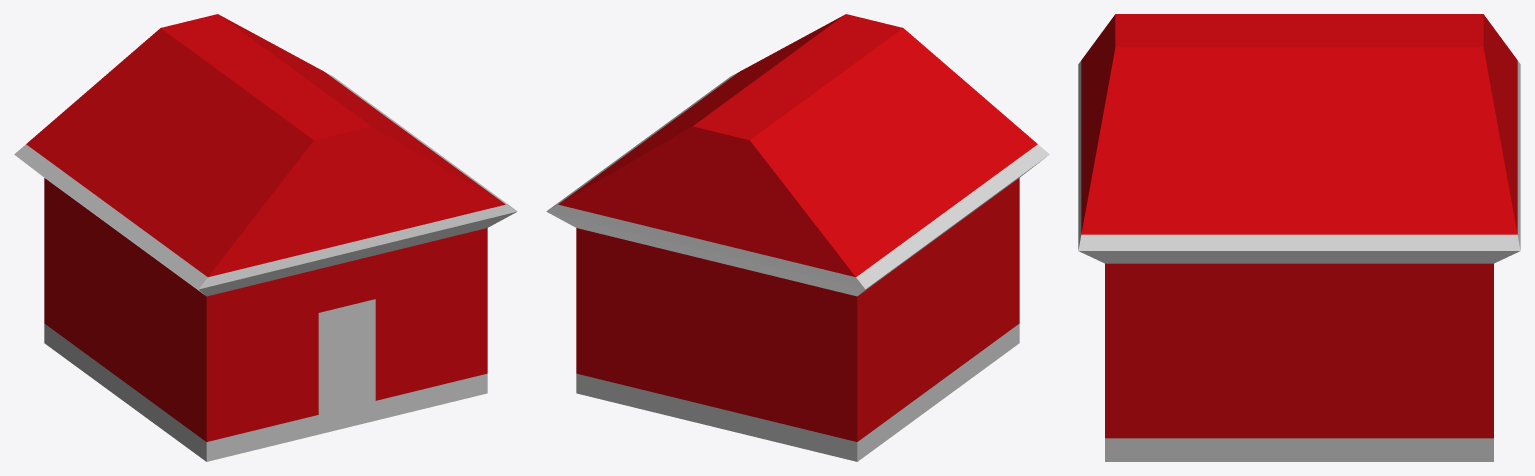
File: HouseBlend.fbx
3 renders of one model, left to right at view 1: azimuth 30°, elevation 25°; view 2: azimuth 150°, elevation 25°; view 3: azimuth 270°, elevation 25°, orthographic. The views are drawn at different scales.
Parts seen in each view (by area): view 1: House; view 2: House; view 3: House.
Boxes of the visible parts, bbox=[...] form: House: bbox=[14, 14, 517, 461]; House: bbox=[546, 14, 1049, 461]; House: bbox=[1078, 14, 1520, 461].
Size of the model in its own units: 28.94 by 25.21 by 28.94.
